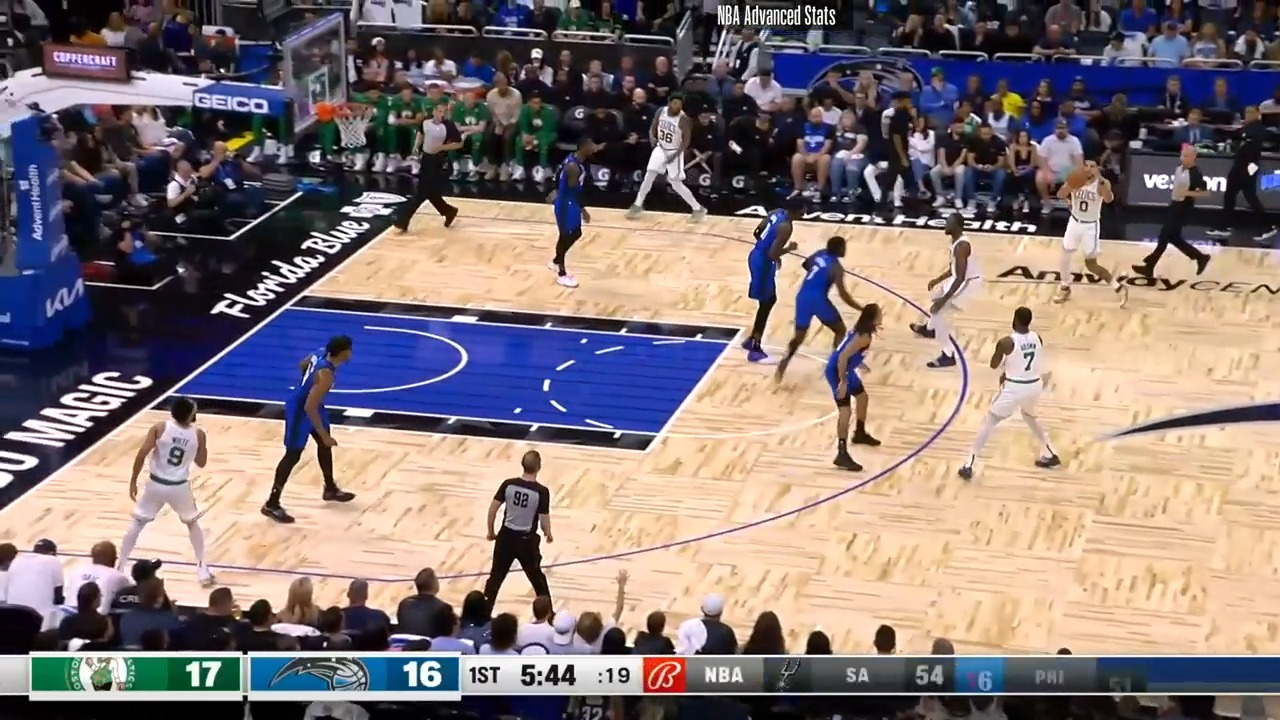net: (315, 96, 378, 151)
player: (111, 392, 218, 590), (949, 302, 1061, 485), (263, 334, 365, 527), (768, 234, 865, 379), (1045, 150, 1128, 307), (823, 304, 898, 476), (730, 195, 805, 365), (919, 214, 996, 377), (630, 92, 712, 225), (548, 140, 606, 294)
referee: (462, 445, 557, 617), (1132, 141, 1215, 289), (393, 98, 467, 236)
